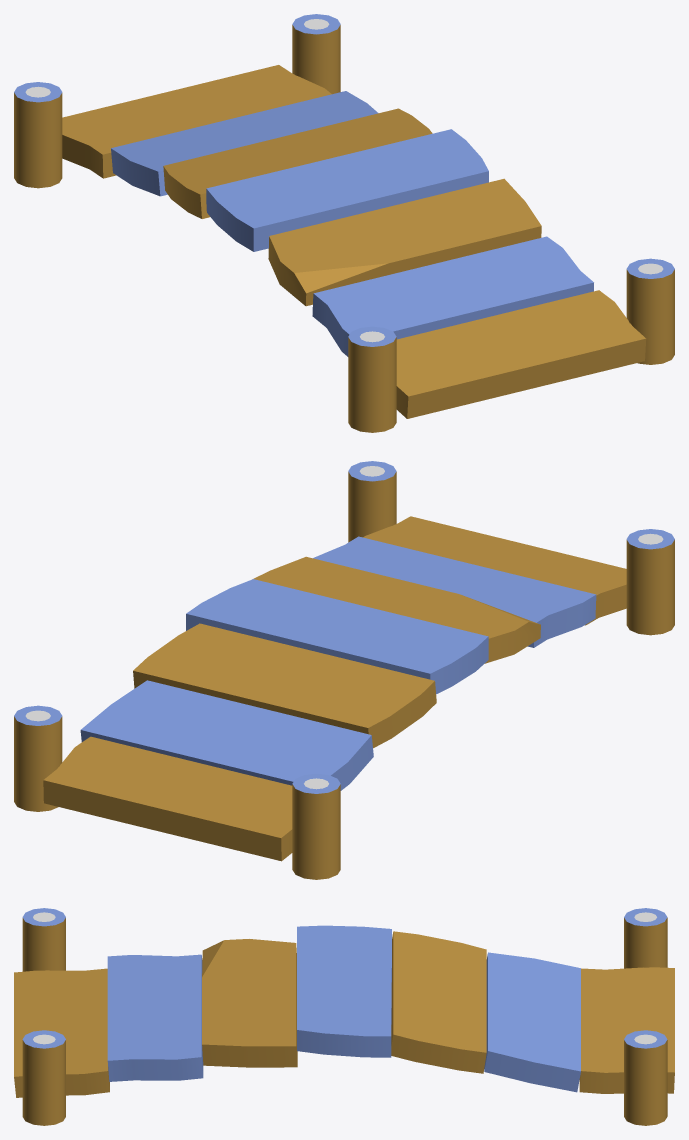
The model's file is Bridge_Many_Parts.fbx.
The picture shows the model from 3 angles, top to bottom: view 1: azimuth 30°, elevation 25°; view 2: azimuth 150°, elevation 25°; view 3: azimuth 270°, elevation 25°; orthographic projection. The views are drawn at different scales.
Parts seen in each view (by area): view 1: Cube.045, Cube.044, Cube.047, Cube.048, Cube.046, Cube.051, Cube.049, Cube.050; view 2: Cube.049, Cube.051, Cube.044, Cube.050, Cube.048, Cube.046, Cube.047, Cube.045; view 3: Cube.044, Cube.048, Cube.049, Cube.047, Cube.046, Cube.050, Cube.051, Cube.045.
Part boxes in pixels (x1,y1,x2,y2): Cube.045: (396, 290, 646, 418); Cube.044: (14, 14, 674, 432); Cube.047: (268, 178, 541, 306); Cube.048: (206, 129, 488, 251); Cube.046: (312, 236, 593, 356); Cube.051: (62, 65, 331, 178); Cube.049: (163, 108, 432, 218); Cube.050: (111, 91, 378, 196); Cube.049: (133, 623, 436, 748); Cube.051: (43, 736, 292, 861); Cube.044: (14, 461, 674, 879); Cube.050: (80, 680, 373, 790); Cube.048: (186, 579, 488, 694); Cube.046: (313, 536, 596, 647); Cube.047: (252, 556, 540, 663); Cube.045: (363, 516, 626, 625); Cube.044: (22, 908, 667, 1125); Cube.048: (297, 925, 391, 1057); Cube.049: (391, 931, 486, 1073); Cube.047: (202, 939, 297, 1067); Cube.046: (107, 954, 203, 1081); Cube.050: (484, 952, 580, 1092); Cube.051: (579, 967, 674, 1093); Cube.045: (14, 968, 109, 1097).
Bounding box in the file's own units: 353 × 90.67 × 701.
